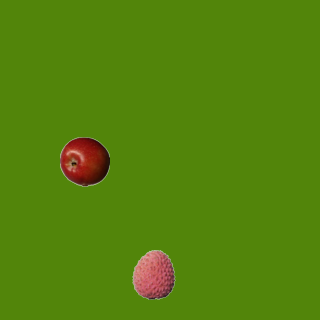Apple Braeburn: (59, 136, 109, 186)
Lychee: (128, 249, 178, 299)
